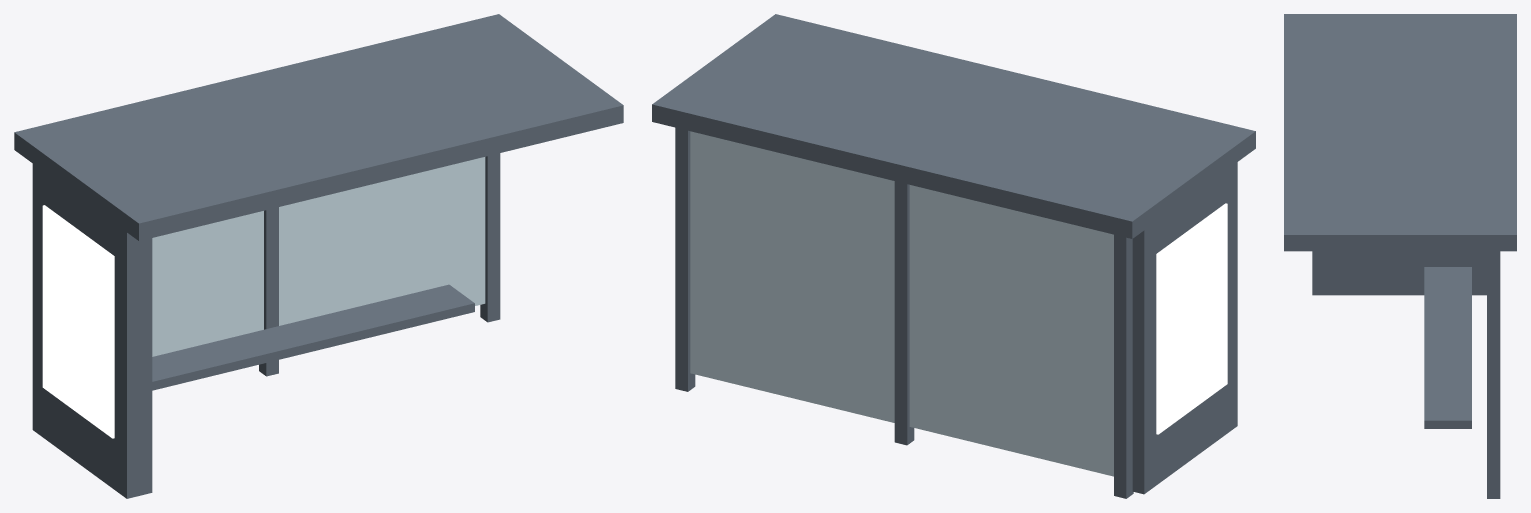
File: urb_bus_shelter.glb
The picture shows the model from 3 angles, left to right: view 1: azimuth 30°, elevation 25°; view 2: azimuth 150°, elevation 25°; view 3: azimuth 270°, elevation 25°; orthographic projection. The views are drawn at different scales.
Parts seen in each view (by area): view 1: frame, glass, lamp_lens; view 2: glass, frame, lamp_lens; view 3: frame.
Part boxes in pixels (x1,y1,x2,y2): frame: [14, 14, 623, 498]; glass: [152, 157, 485, 356]; lamp_lens: [42, 205, 114, 438]; glass: [690, 131, 1113, 476]; frame: [652, 14, 1255, 498]; lamp_lens: [1156, 203, 1227, 434]; frame: [1284, 14, 1516, 498].
Size of the model in its own units: 4.6 by 2.63 by 2.05.
